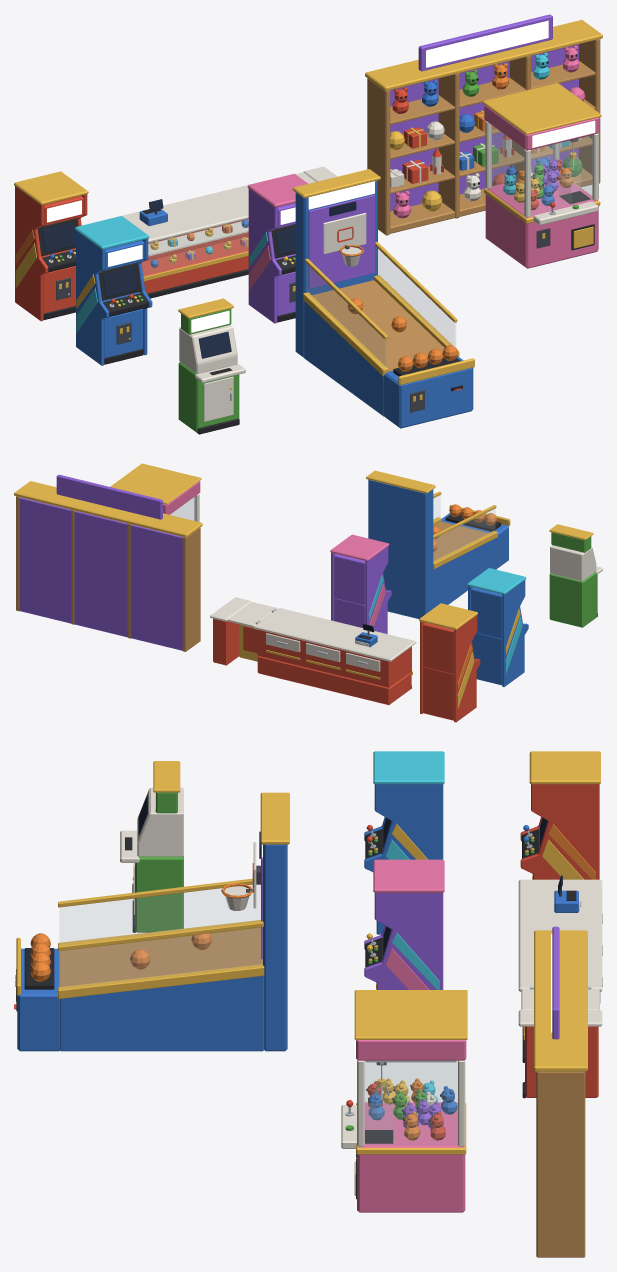
Rendered from arcade-prize-shop.glb.
3 views of the same model, one above another, from view 1: azimuth 30°, elevation 25°; view 2: azimuth 150°, elevation 25°; view 3: azimuth 270°, elevation 25° (orthographic). The views are drawn at different scales.
Parts seen in each view (by area): view 1: ClawMachine_Base, BasketballGame_Lane, PrizeShelves_Back, ClawMachine_GlassFront, BasketballGame_Ramp, BasketballGame_Console, PrizeShelves_TopCap, ClawMachine_CrownCap, PrizeCounter_Top, BasketballGame_Backdrop, PrizeCounter_DisplayGlass, ArcadeCabinet_Purple_SideL (+49 smaller); view 2: PrizeShelves_Back, BasketballGame_Tower, PrizeCounter_Top, PrizeCounter_LowerBody, PrizeShelves_TopCap, PrizeCounter_BackUpper, TicketMachine_Base, BasketballGame_Ramp, PrizeShelves_Header, PrizeShelves_Upright0, ClawMachine_CrownCap, ArcadeCabinet_Blue_SideL (+29 smaller); view 3: BasketballGame_Ramp, PrizeShelves_Upright3, ClawMachine_Base, ClawMachine_GlassR, BasketballGame_GlassR, BasketballGame_GlassL, BasketballGame_Lane, PrizeShelves_TopCap, ClawMachine_CrownCap, PrizeCounter_Top, ArcadeCabinet_Purple_SideR, BasketballGame_Tower (+25 smaller).
Part boxes in pixels (bbox=[...]): ClawMachine_Base: bbox=[485, 173, 598, 268]; BasketballGame_Lane: bbox=[312, 280, 444, 371]; PrizeShelves_Back: bbox=[390, 44, 578, 211]; ClawMachine_GlassFront: bbox=[531, 135, 592, 214]; BasketballGame_Ramp: bbox=[304, 301, 383, 416]; BasketballGame_Console: bbox=[383, 356, 473, 428]; PrizeShelves_TopCap: bbox=[365, 20, 602, 91]; ClawMachine_CrownCap: bbox=[482, 83, 601, 134]; PrizeCounter_Top: bbox=[98, 184, 251, 242]; BasketballGame_Backdrop: bbox=[308, 195, 375, 288]; PrizeCounter_DisplayGlass: bbox=[142, 219, 248, 275]; ArcadeCabinet_Purple_SideL: bbox=[248, 188, 281, 323]; PrizeShelves_Back: bbox=[19, 497, 182, 650]; BasketballGame_Tower: bbox=[368, 479, 433, 618]; PrizeCounter_Top: bbox=[253, 608, 416, 661]; PrizeCounter_LowerBody: bbox=[257, 656, 411, 704]; PrizeShelves_TopCap: bbox=[14, 481, 202, 537]; PrizeCounter_BackUpper: bbox=[257, 629, 399, 687]; TicketMachine_Base: bbox=[549, 571, 597, 627]; BasketballGame_Ramp: bbox=[433, 538, 496, 608]; PrizeShelves_Header: bbox=[56, 474, 162, 519]; PrizeShelves_Upright0: bbox=[182, 527, 200, 651]; ClawMachine_CrownCap: bbox=[110, 463, 201, 504]; ArcadeCabinet_Blue_SideL: bbox=[502, 580, 528, 686]; BasketballGame_Ramp: bbox=[60, 975, 264, 1051]; PrizeShelves_Upright3: bbox=[536, 1071, 585, 1257]; ClawMachine_Base: bbox=[357, 1102, 465, 1212]; ClawMachine_GlassR: bbox=[365, 1061, 457, 1144]; BasketballGame_GlassR: bbox=[59, 927, 262, 987]; BasketballGame_GlassL: bbox=[59, 885, 260, 943]; BasketballGame_Lane: bbox=[59, 928, 262, 986]; PrizeShelves_TopCap: bbox=[534, 930, 587, 1071]; ClawMachine_CrownCap: bbox=[354, 990, 467, 1039]; PrizeCounter_Top: bbox=[518, 879, 602, 991]; ArcadeCabinet_Purple_SideR: bbox=[364, 893, 443, 989]; BasketballGame_Tower: bbox=[263, 844, 287, 1051].
Size of the model in its own units: 34.11 by 10.03 by 23.97.
